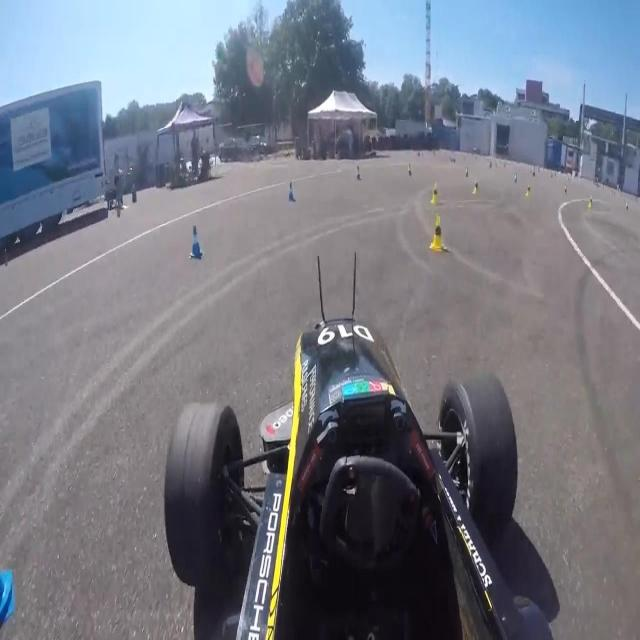blue_cone: (189, 224, 204, 259), (288, 182, 296, 202)
yellow_cone: (429, 215, 447, 253), (431, 182, 440, 206)
